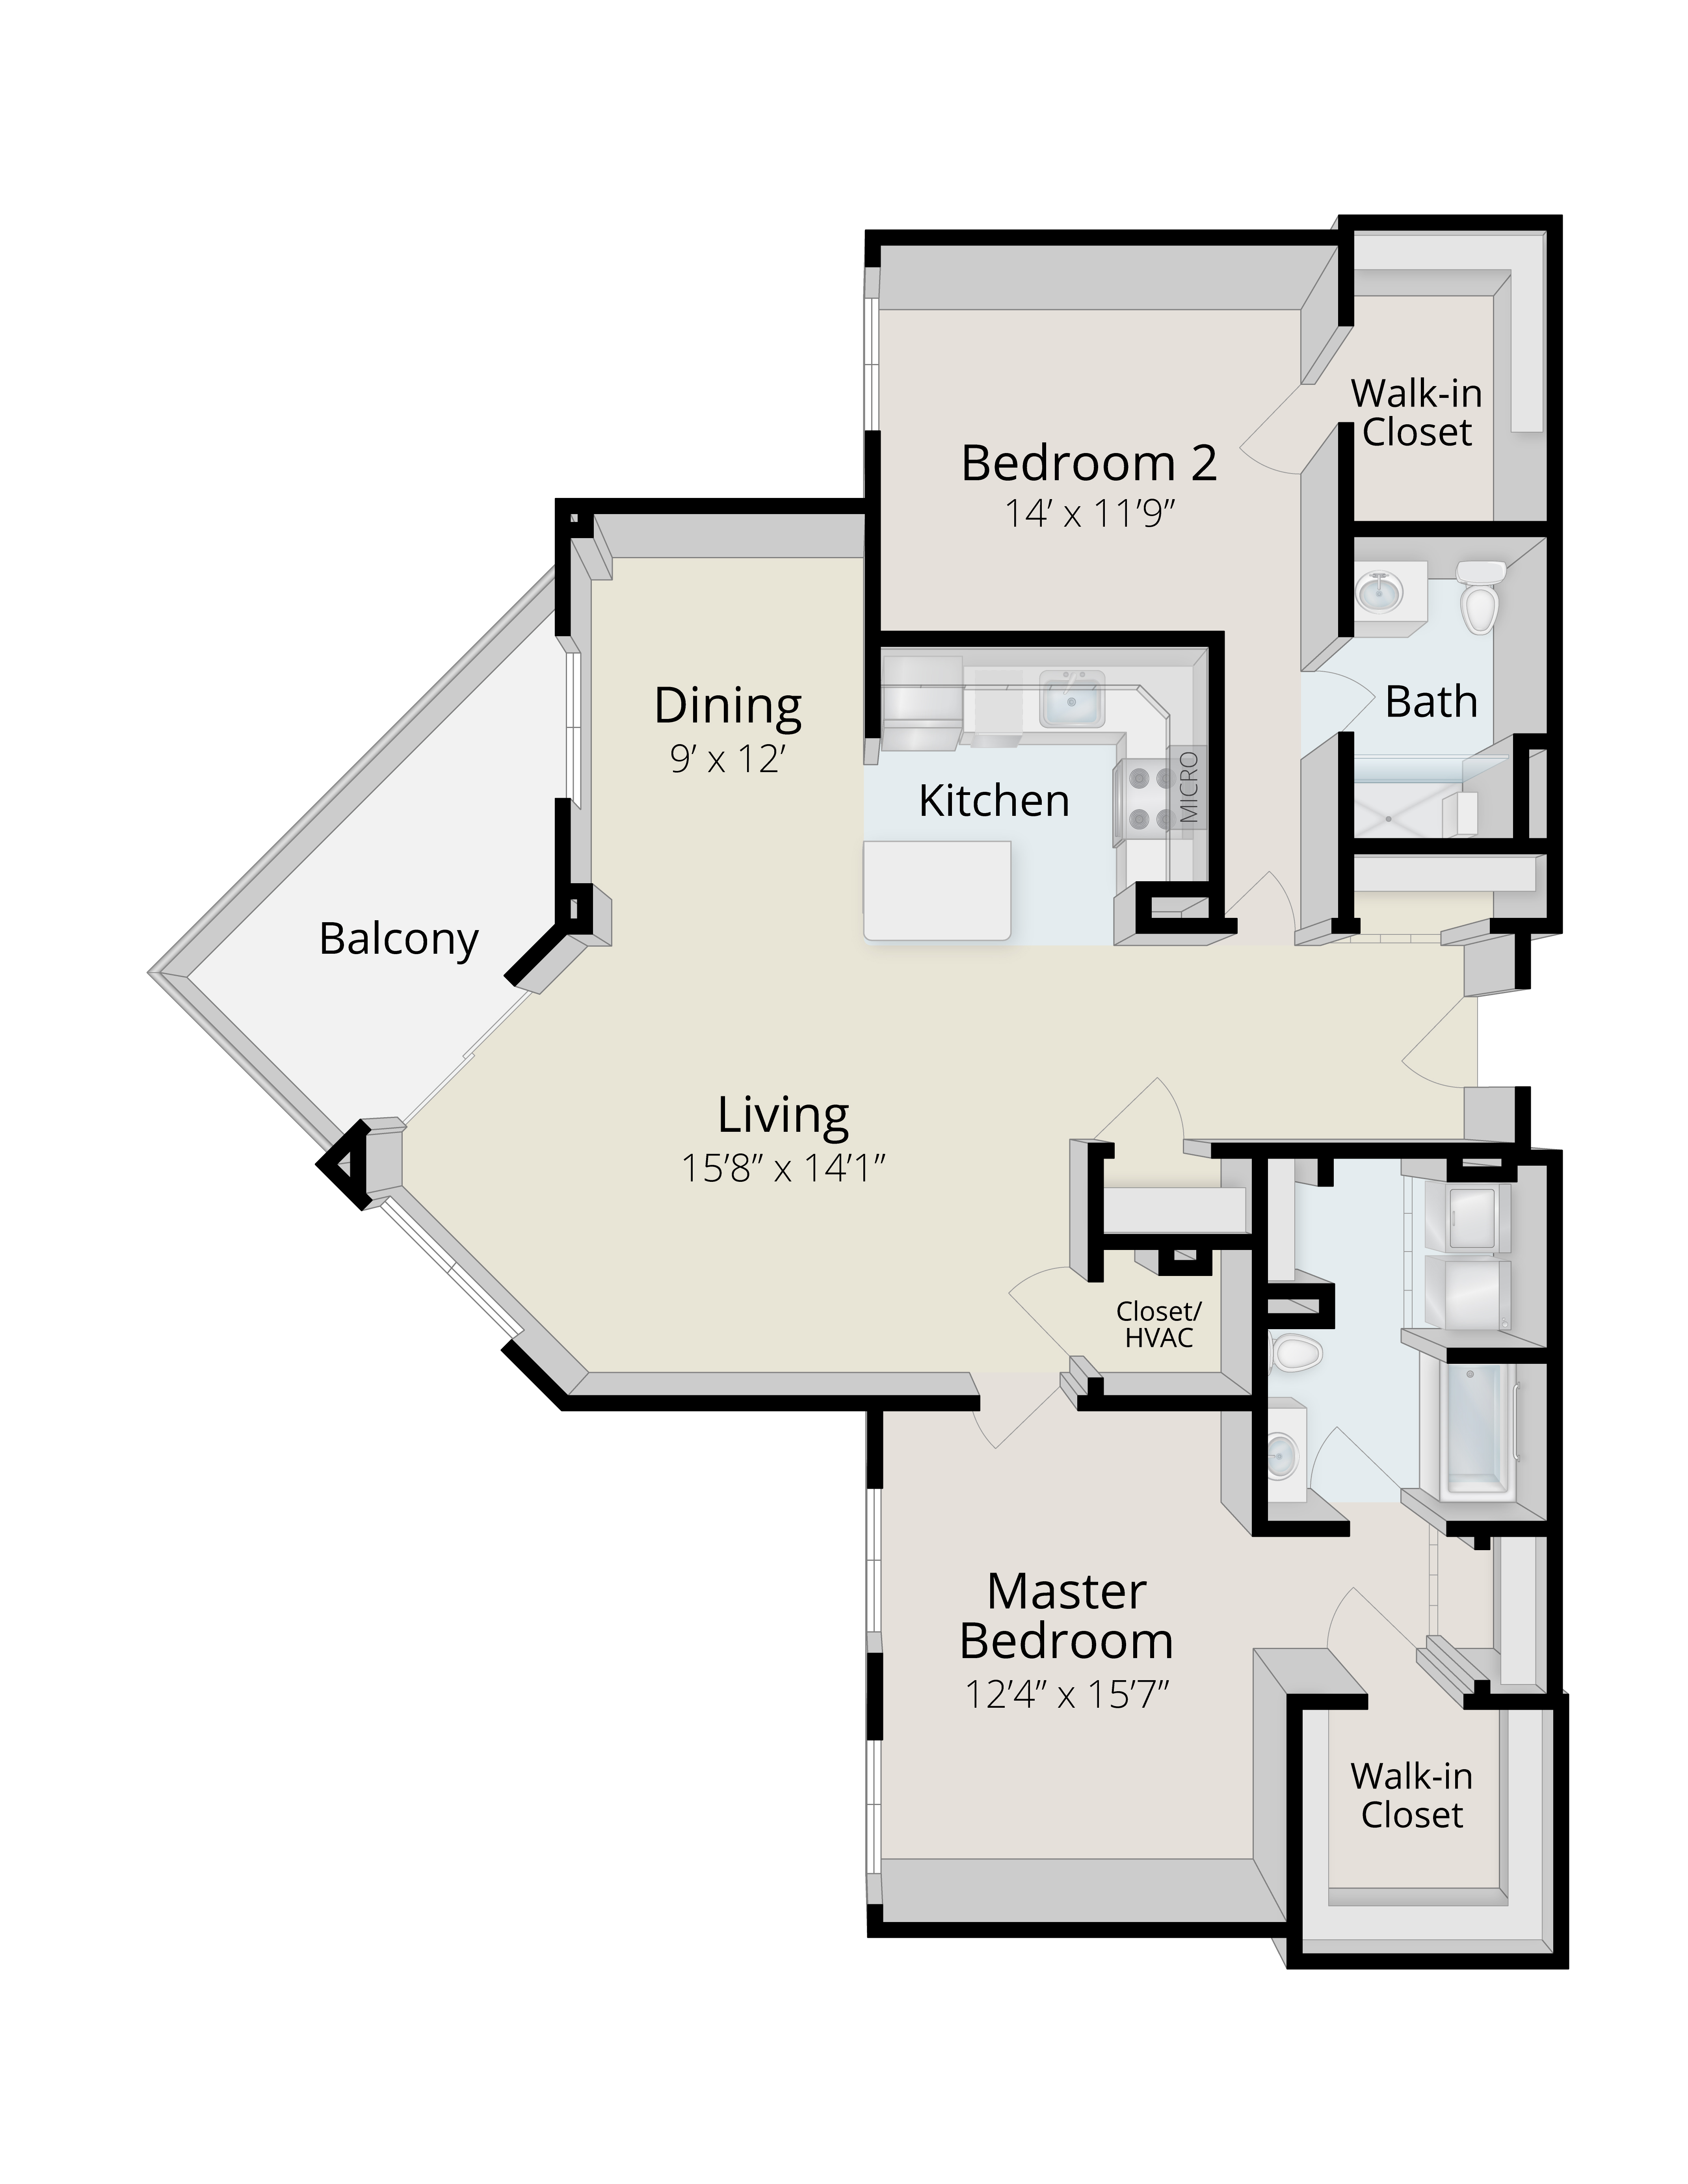wall: (856, 206, 1333, 255), (849, 1911, 1286, 1954), (1264, 1688, 1326, 1982), (860, 613, 1232, 656), (544, 477, 871, 521), (1200, 645, 1246, 943), (1541, 191, 1576, 539), (580, 1390, 979, 1420), (853, 417, 885, 739), (1078, 1376, 1257, 1431), (1548, 1695, 1583, 1961), (1337, 202, 1559, 241), (1330, 721, 1369, 943), (1326, 417, 1358, 649), (1204, 1129, 1457, 1158), (1344, 511, 1569, 542), (1333, 835, 1566, 865), (551, 796, 594, 940), (491, 1337, 576, 1406), (1250, 1262, 1271, 1530), (551, 500, 587, 642), (832, 1656, 885, 1750), (1236, 1509, 1362, 1548), (1316, 216, 1362, 323), (1096, 1230, 1264, 1255), (1082, 1143, 1114, 1273), (1289, 1961, 1562, 1975), (853, 1402, 903, 1477), (1472, 1681, 1576, 1712), (1436, 1516, 1569, 1537), (1440, 1347, 1569, 1369), (1286, 1684, 1390, 1709), (860, 220, 881, 266)
